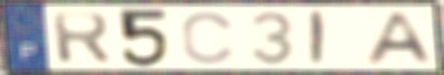3: (244, 9, 297, 66)
5: (114, 7, 173, 68)
A: (361, 10, 438, 66)
C: (179, 9, 238, 66)
I: (308, 9, 328, 68)
R: (49, 10, 114, 65)
